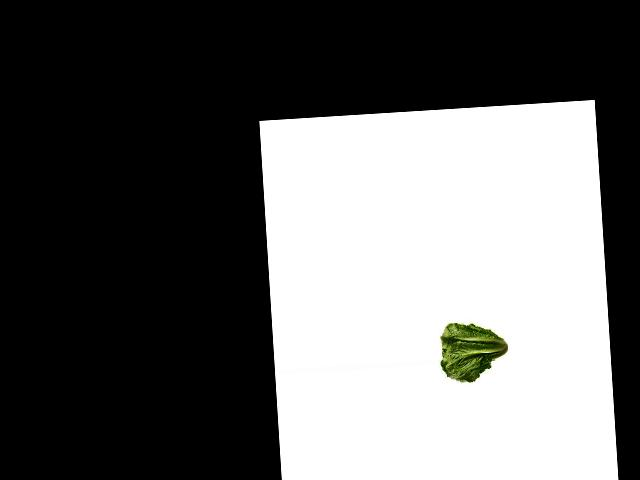lettuce: (437, 322, 513, 386)
